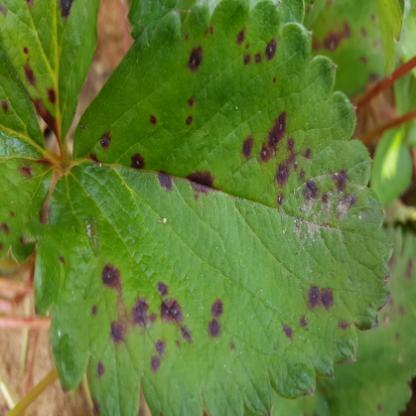Strawberry_Leaf_Spot: (34, 0, 395, 415), (315, 226, 415, 415), (0, 0, 101, 150), (0, 52, 58, 260), (301, 0, 403, 95)
